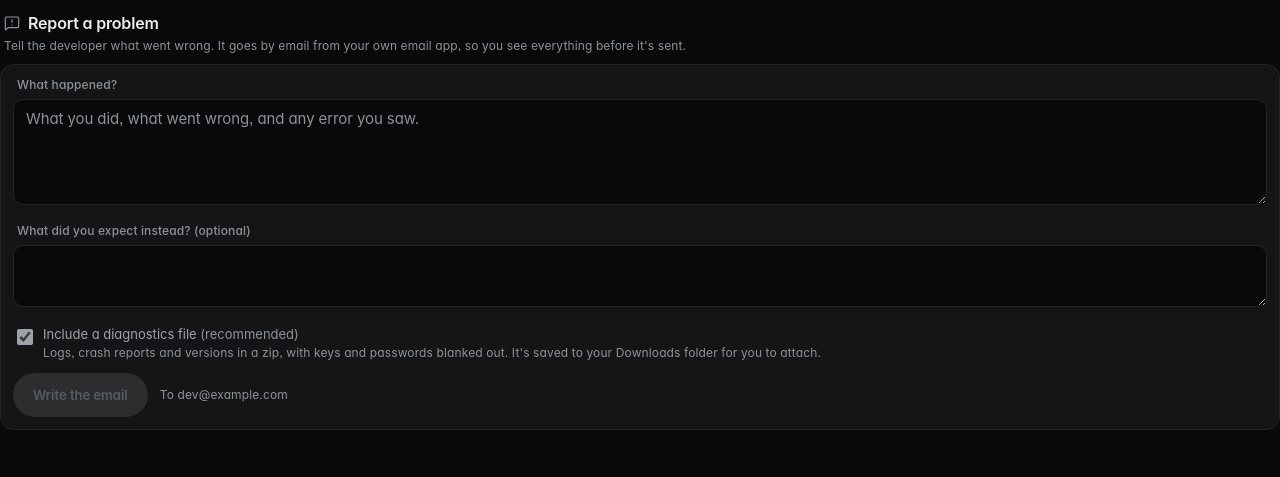
Scenario: says so when the diagnostics file couldn't be made, and still opens the email
The image size is (1280, 477).
Type "It broke" into the text box with placeholder "What you did, what went wrong, and any error you saw.".
click(640, 152); type("It broke")  # box [13,99,1267,205]
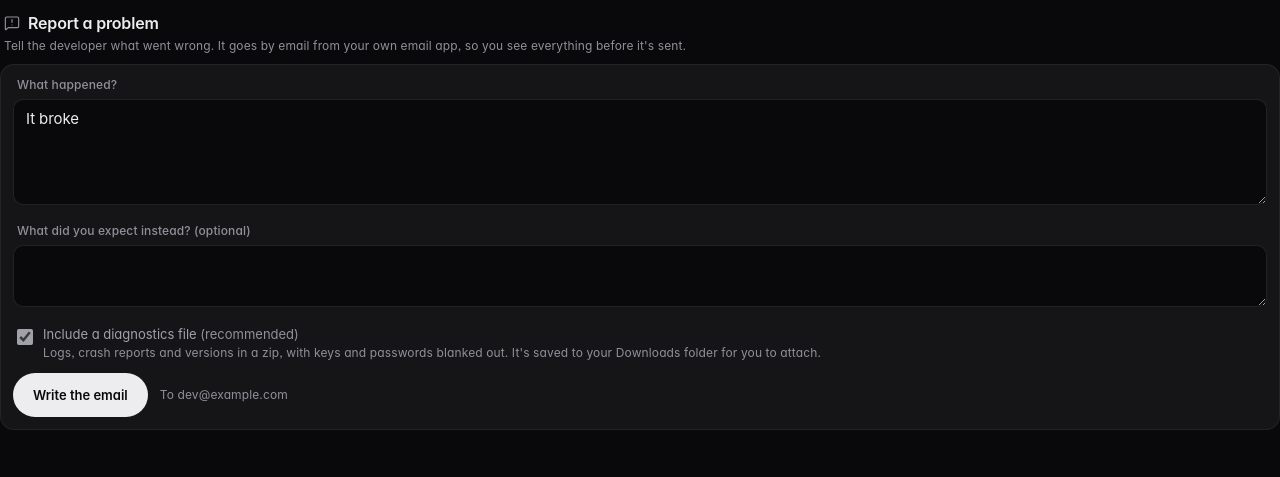
Click the button "Write the email".
click(80, 395)  # box [13,373,148,417]
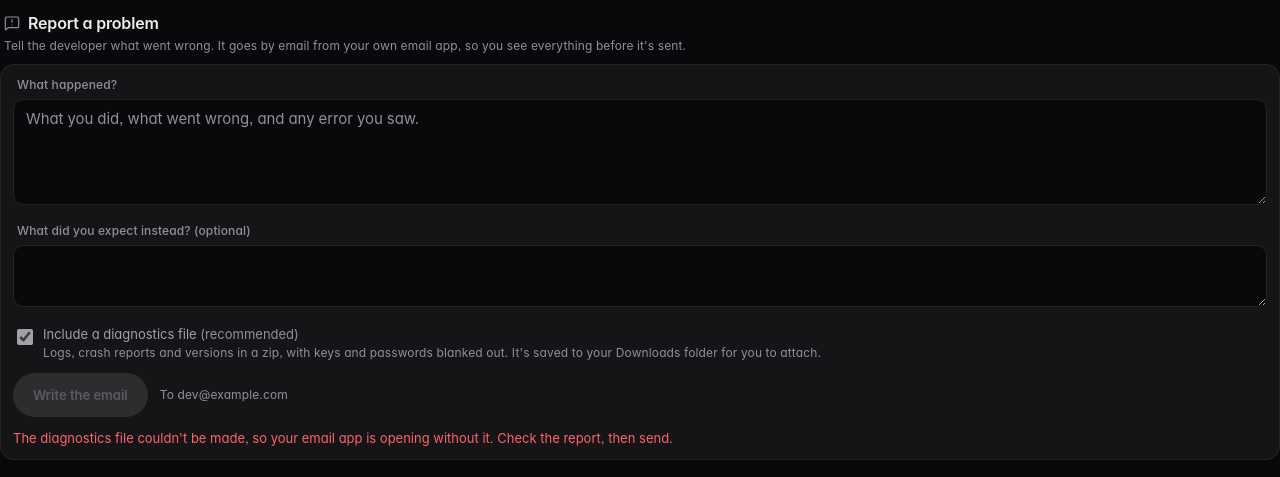
Expected: the message shows "diagnostics file couldn't be made, so your email app is opening without it", [13,430,673,446]
